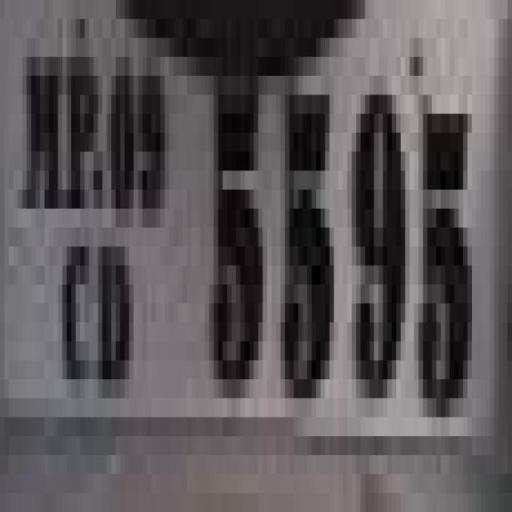number plate: (0, 18, 494, 512)
